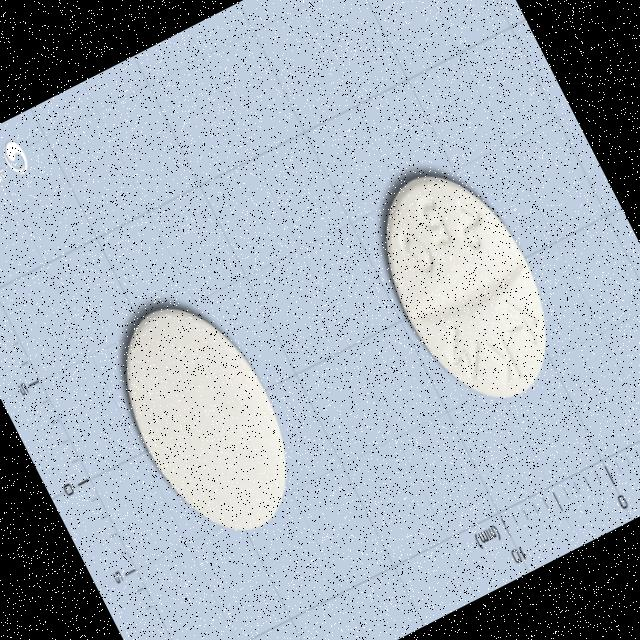Ciploxcin: (82, 274, 324, 564), (346, 143, 584, 432)
